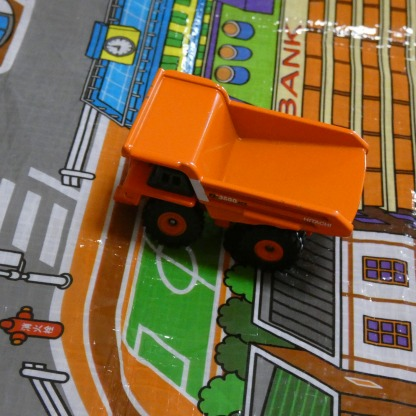car: (111, 71, 364, 273)
